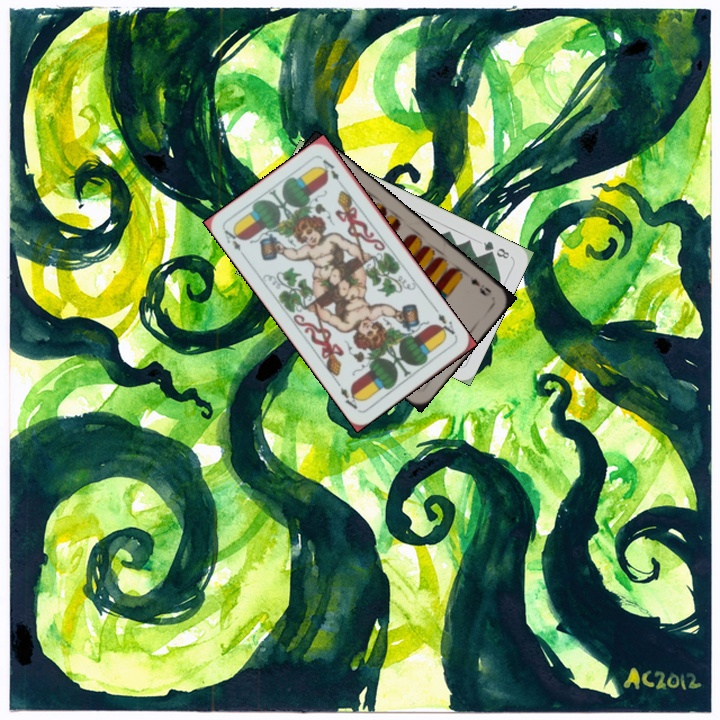E9: (466, 272, 494, 299)
EA: (220, 224, 248, 260), (432, 309, 459, 340)
G8: (479, 237, 512, 261)
